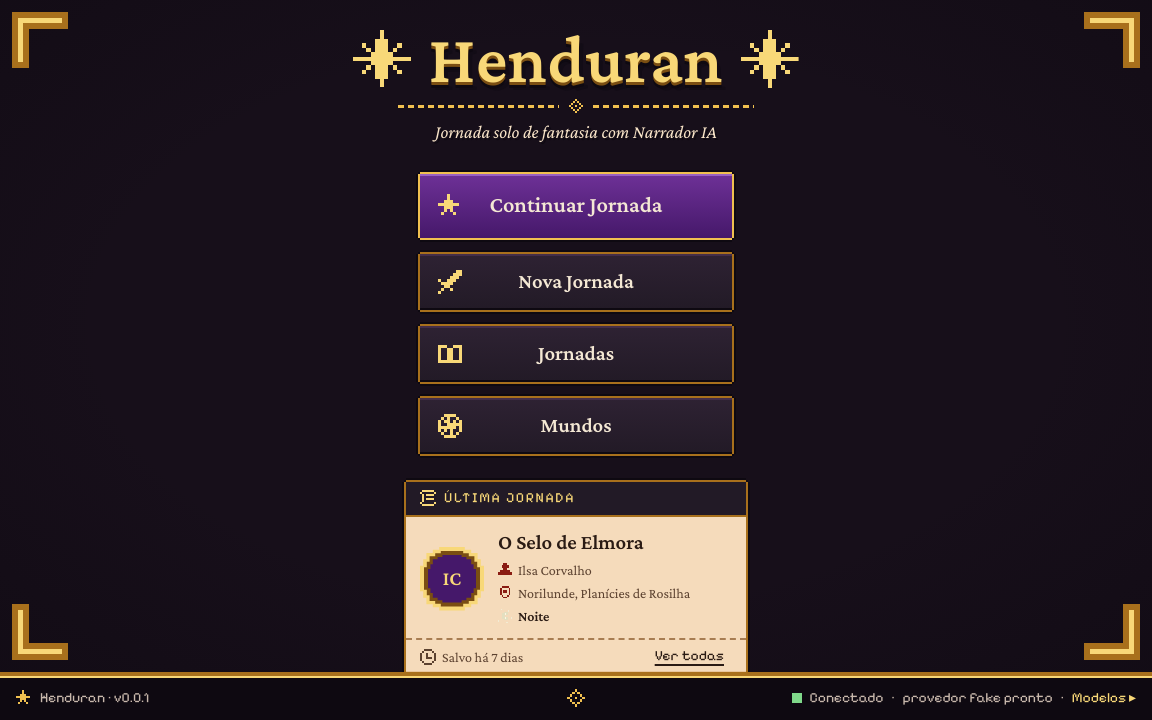
App — tela da Jornada e modelo › com o provedor falso, o indicador diz Modelo pronto
Expected: the text "Conectado" is shown, [810,688,883,708]
Click the button "Continuar Jornada".
click(576, 206)  # box [420,174,732,238]
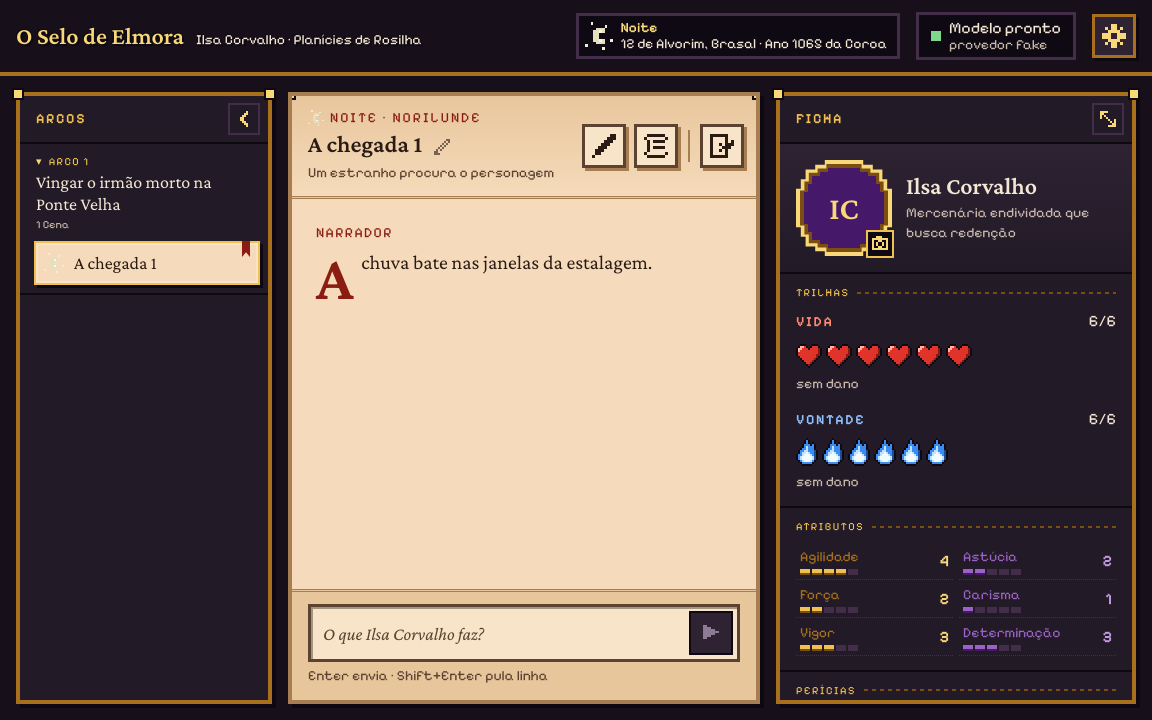
Expected: the element named "Conversa da Cena" is shown, [316,224,652,313]
Expected: the button "Modelo pronto provedor fake" is shown, [916,12,1076,60]
